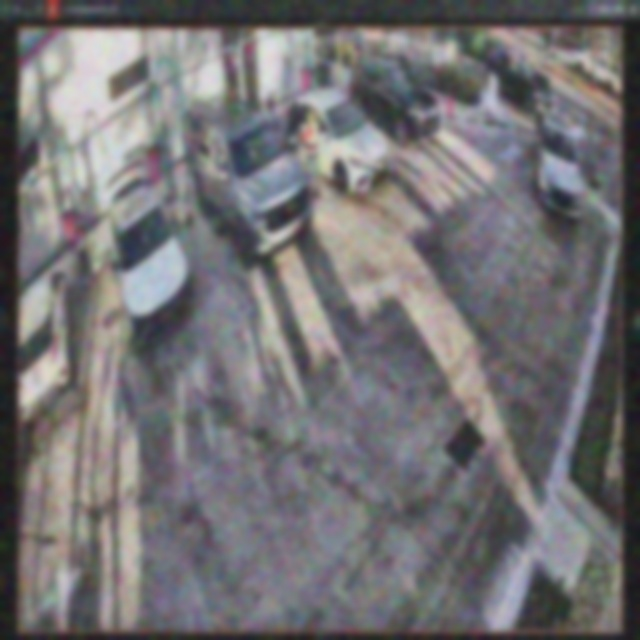Car: (189, 97, 313, 267), (106, 164, 194, 343), (278, 91, 390, 190)
